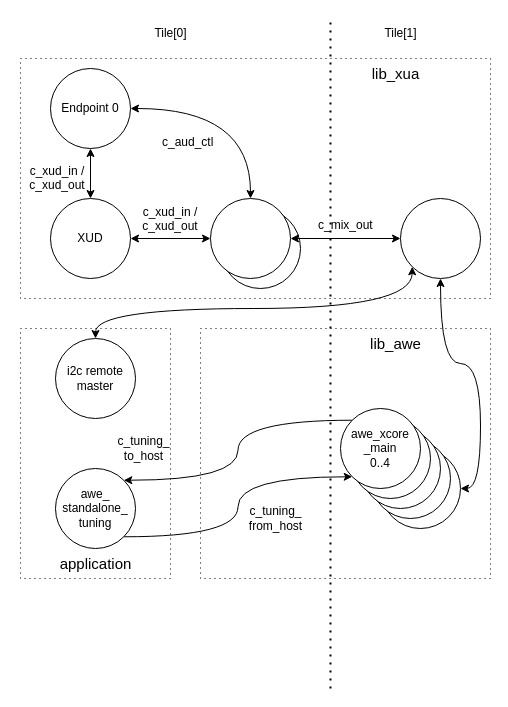
The diagram is 508 pixels wide and 707 high, and some of its shapes have lost their labels. Each missing label, with the box of its shape:
Audio (I2S): (400, 198, 480, 278)
Decouple and Buffer: (210, 198, 290, 278)
